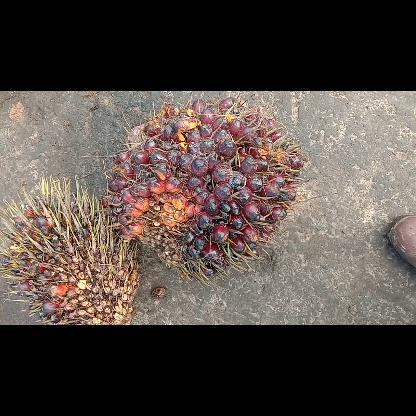Kurang masak: (98, 94, 304, 284)
TBS abnormal: (0, 174, 142, 324)
